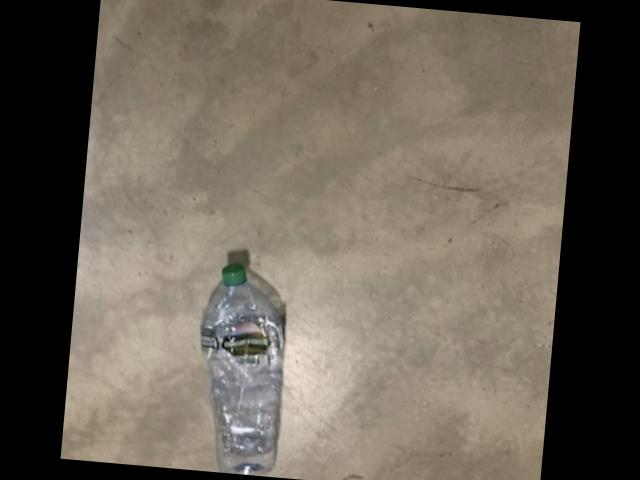plastic: (199, 260, 281, 472)
